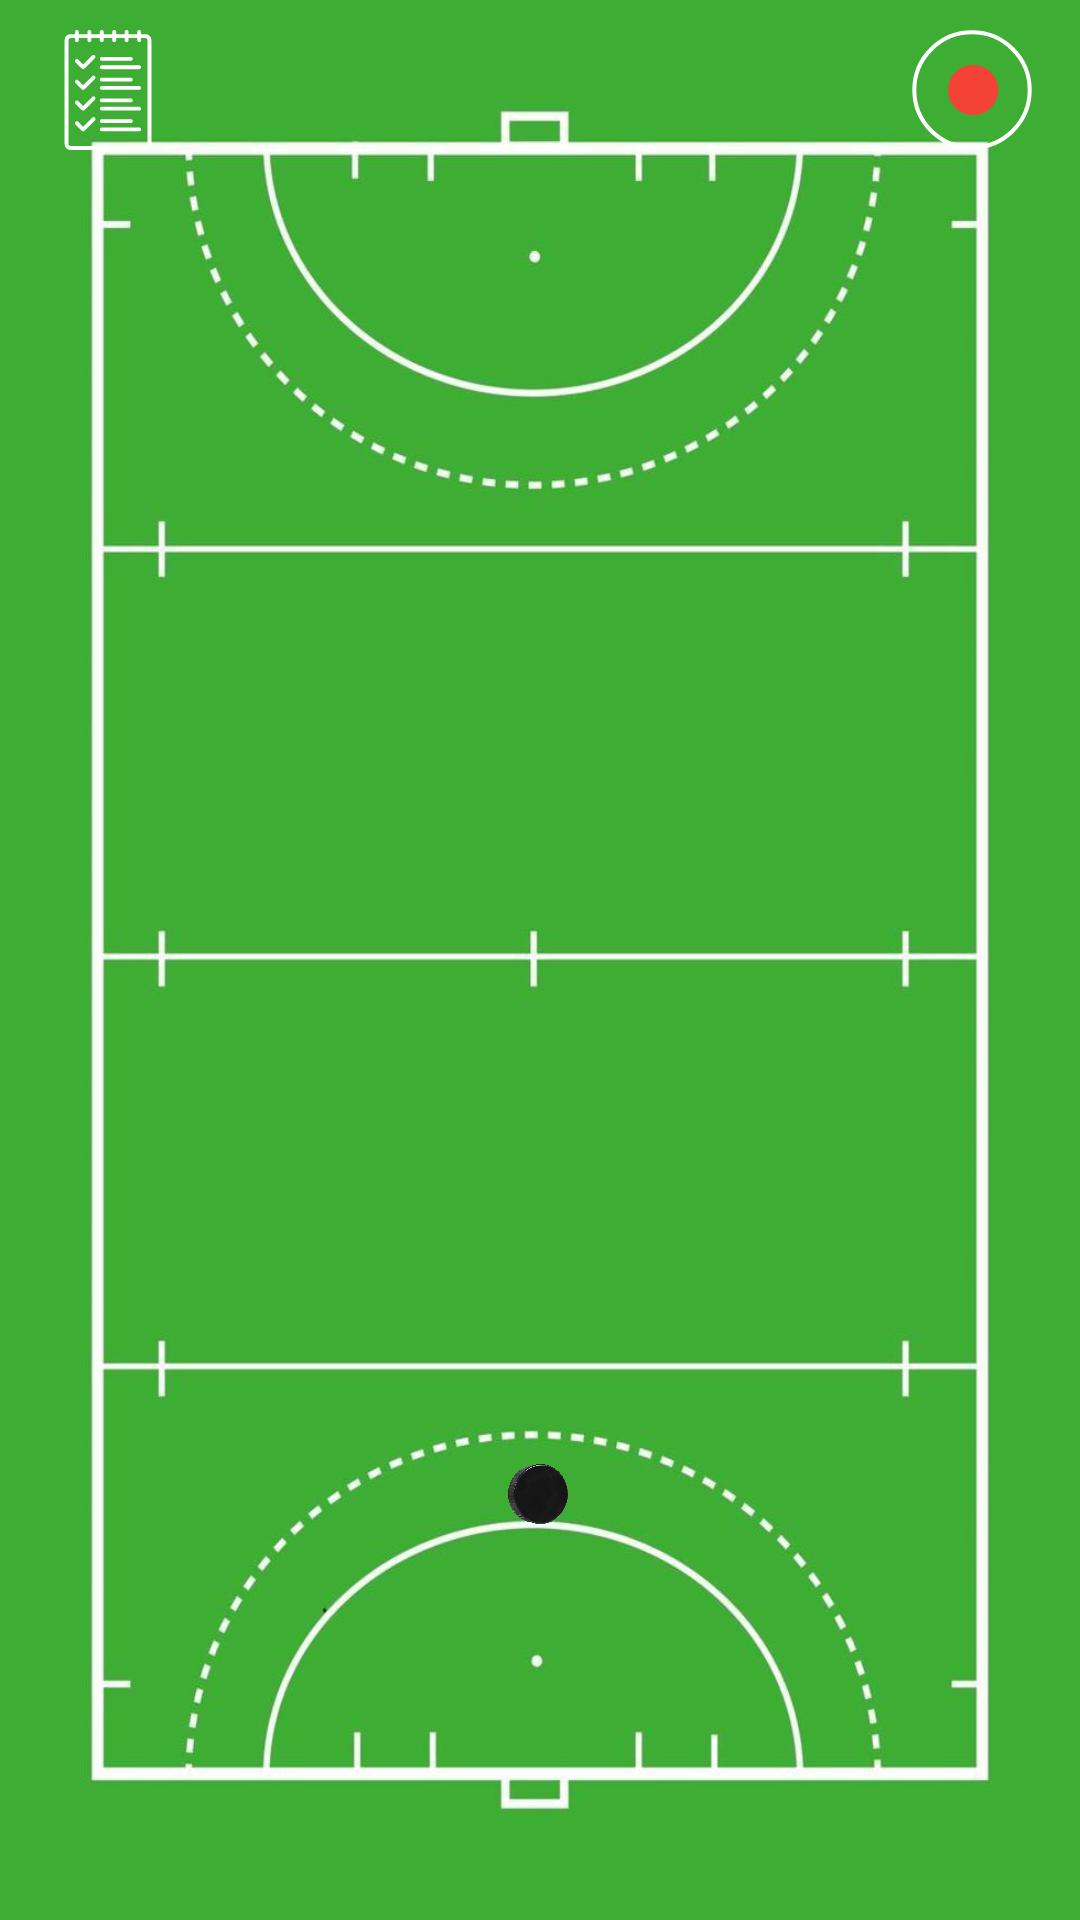

Icon bounding boxes for this 1080w x 1920h phone screenshot, format [x1=x1, y1=y1, x2=x2, y2=y2]:
hockey ball: [x1=508, y1=1464, x2=568, y2=1524]
list: [x1=64, y1=30, x2=168, y2=150]
